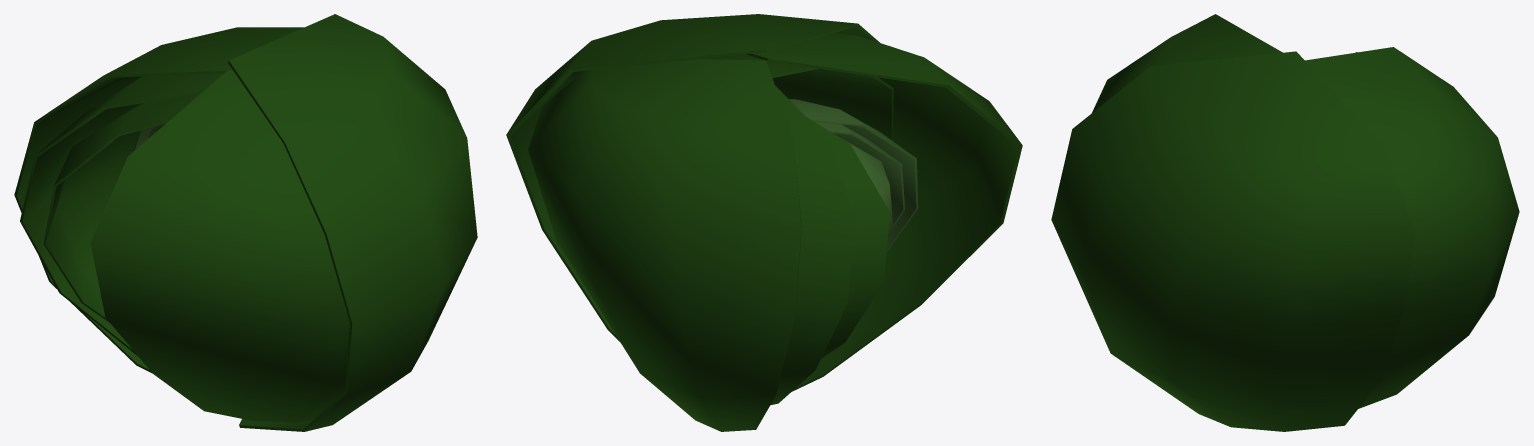
File: lettuce.fbx
3 renders of one model, left to right at view 1: azimuth 30°, elevation 25°; view 2: azimuth 150°, elevation 25°; view 3: azimuth 270°, elevation 25°, orthographic.
Parts seen in each view (by area): view 1: Sphere004; view 2: Sphere004, Object001; view 3: Sphere004.
Boxes of the visible parts, x1,y1,x2,y2 form: Sphere004: (14, 14, 477, 431); Sphere004: (506, 14, 1022, 431); Object001: (789, 99, 918, 252); Sphere004: (1051, 14, 1519, 431).
Size of the model in its own units: 5.46 by 4.64 by 5.33.
